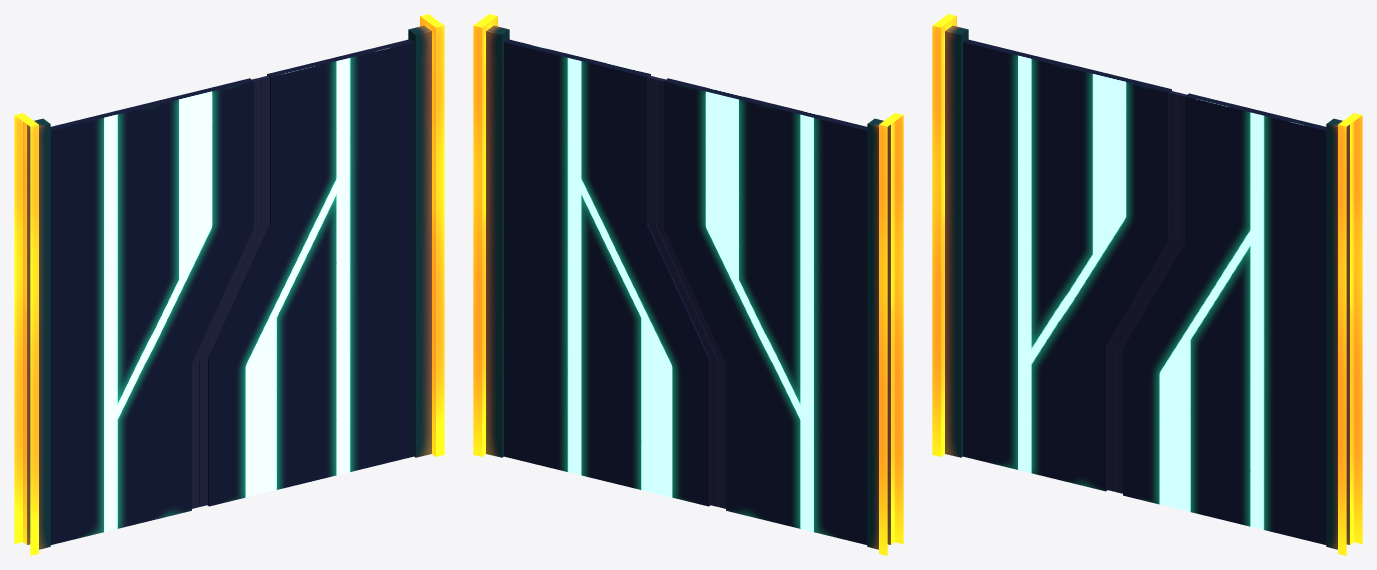
The model's file is door low.glb.
3 views of the same model, side by side, from view 1: azimuth 30°, elevation 25°; view 2: azimuth 150°, elevation 25°; view 3: azimuth 330°, elevation 25° (orthographic).
Parts seen in each view (by area): view 1: door left.002, door right.002, door frame.007; view 2: door left.002, door right.002, door frame.007; view 3: door right.002, door left.002, door frame.007.
Boxes of the visible parts, x1,y1,x2,y2 form: door left.002: (199,39,413,506); door right.002: (50,78,261,544); door frame.007: (14,14,444,555); door left.002: (504,39,718,506); door right.002: (656,78,867,544); door frame.007: (473,14,903,555); door right.002: (963,39,1179,491); door left.002: (1115,93,1326,544); door frame.007: (932,14,1362,555).
Size of the model in its own units: 1 by 0.9897 by 0.0667.
1 material, 1 textured.
